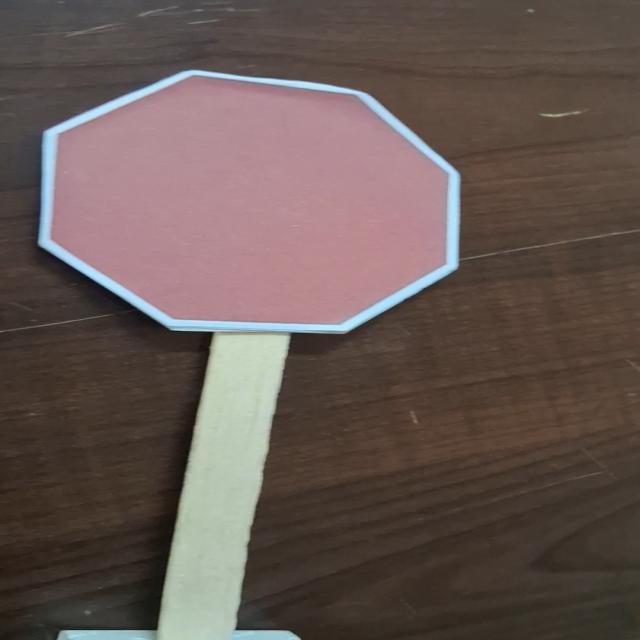Stop: (30, 55, 480, 341)
